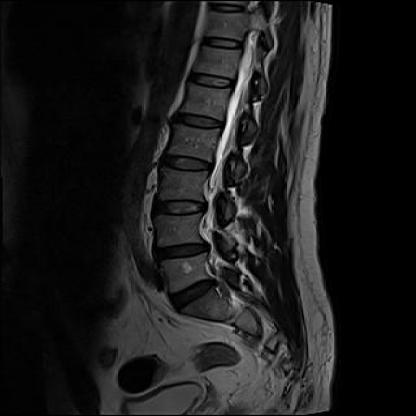Degenerative Disc Diseaserotation: (145, 238, 216, 271), (164, 280, 224, 308)
Disc Bulgerotation: (148, 239, 213, 270)
Disc Relaxationrotation: (146, 191, 211, 225)
